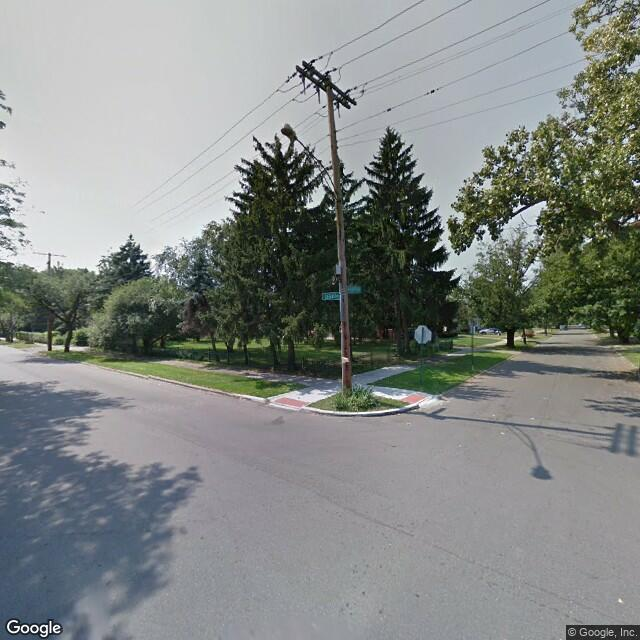litter: (239, 395, 247, 401), (352, 372, 356, 377)
